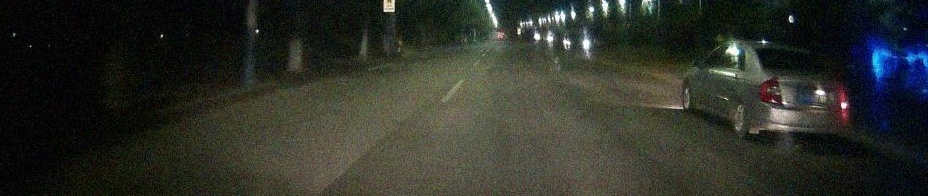L_light: (758, 78, 783, 105)
R_light: (833, 89, 849, 113)
T_light: (788, 48, 803, 55)
night-right: (747, 41, 850, 140)
